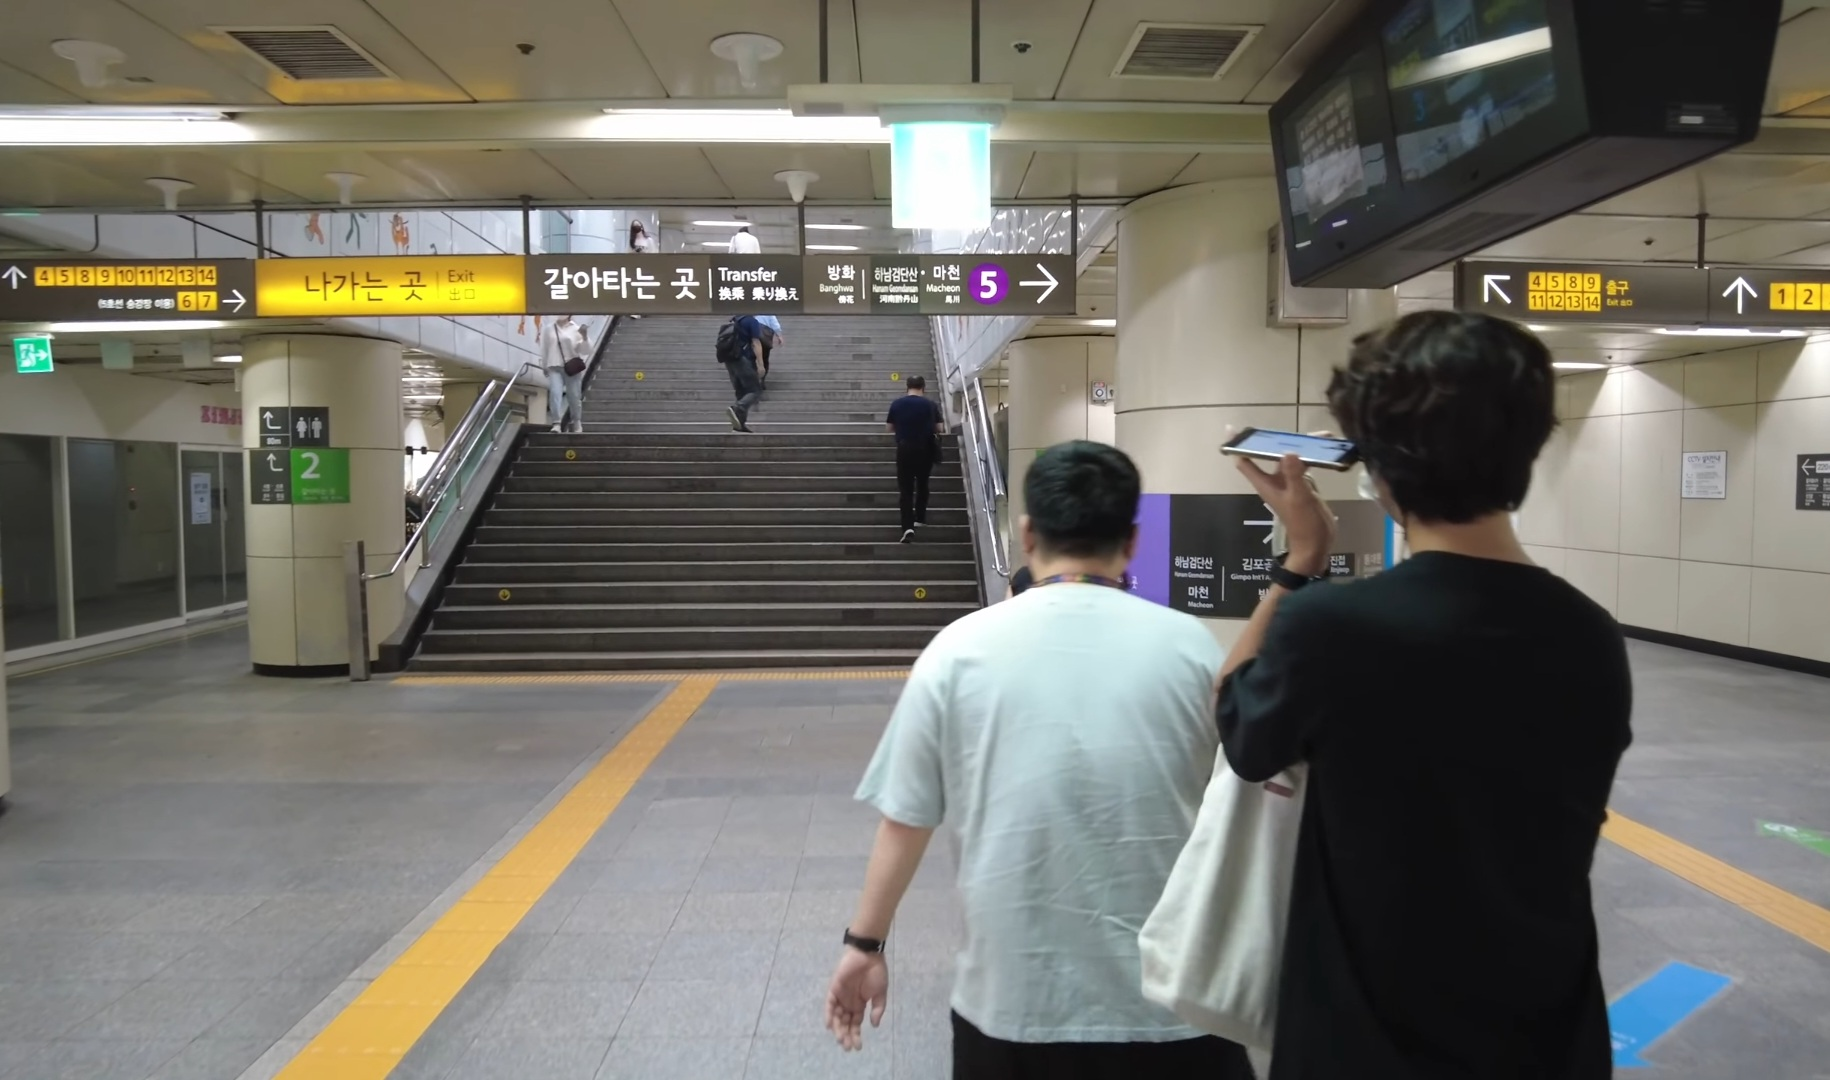signBoard: (12, 246, 1081, 329)
